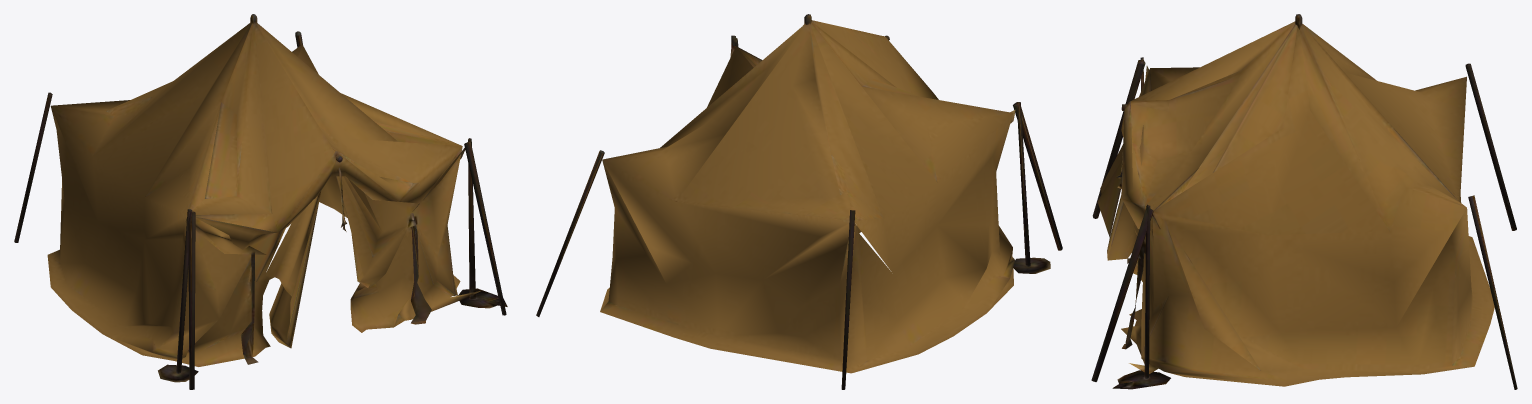
File: world-tent.glb
3 renders of one model, left to right at view 1: azimuth 30°, elevation 25°; view 2: azimuth 150°, elevation 25°; view 3: azimuth 270°, elevation 25°, orthographic. The views are drawn at different scales.
Size of the model in its own units: 2.94 by 2.25 by 3.
Materials: 1 (1 with a texture image).
